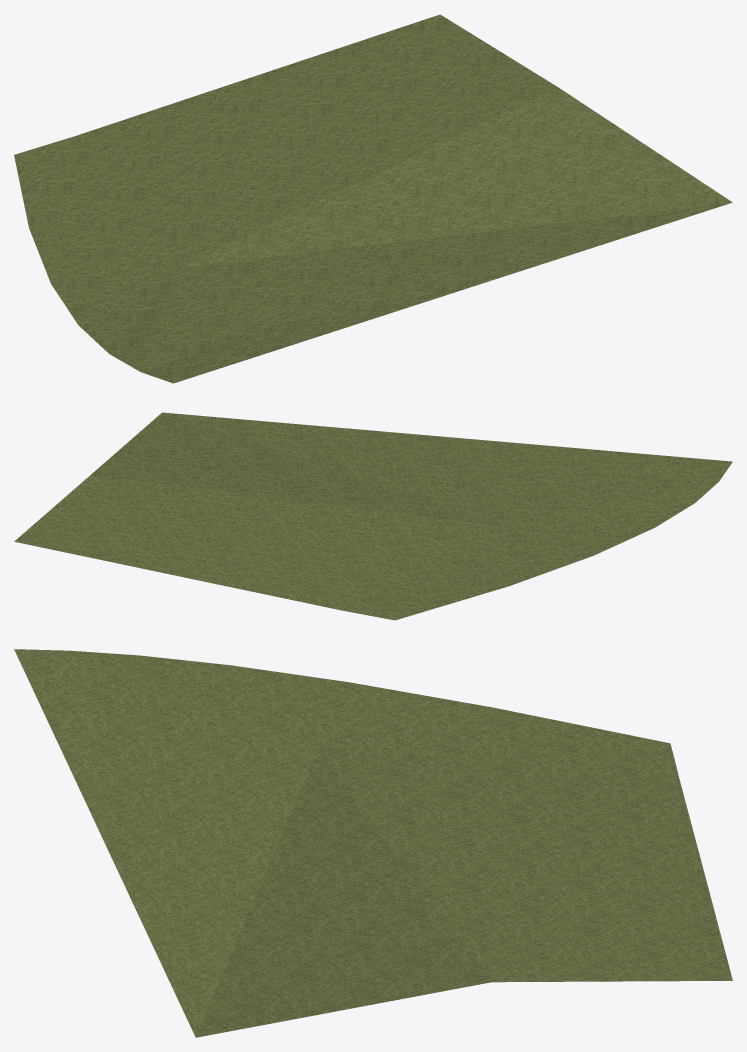
File: desn_detail03.obj
The picture shows the model from 3 angles, top to bottom: view 1: azimuth 30°, elevation 25°; view 2: azimuth 150°, elevation 25°; view 3: azimuth 270°, elevation 25°; orthographic projection. The views are drawn at different scales.
Visible parts, largest first — view 1: desn_detail03; view 2: desn_detail03; view 3: desn_detail03.
Boxes of the visible parts, left/top/right/bottom form: desn_detail03: left=14, top=14, right=732, bottom=383; desn_detail03: left=14, top=412, right=732, bottom=620; desn_detail03: left=14, top=649, right=732, bottom=1037.
Size of the model in its own units: 51.6 by 2.64 by 44.27.
1 material, 1 textured.
